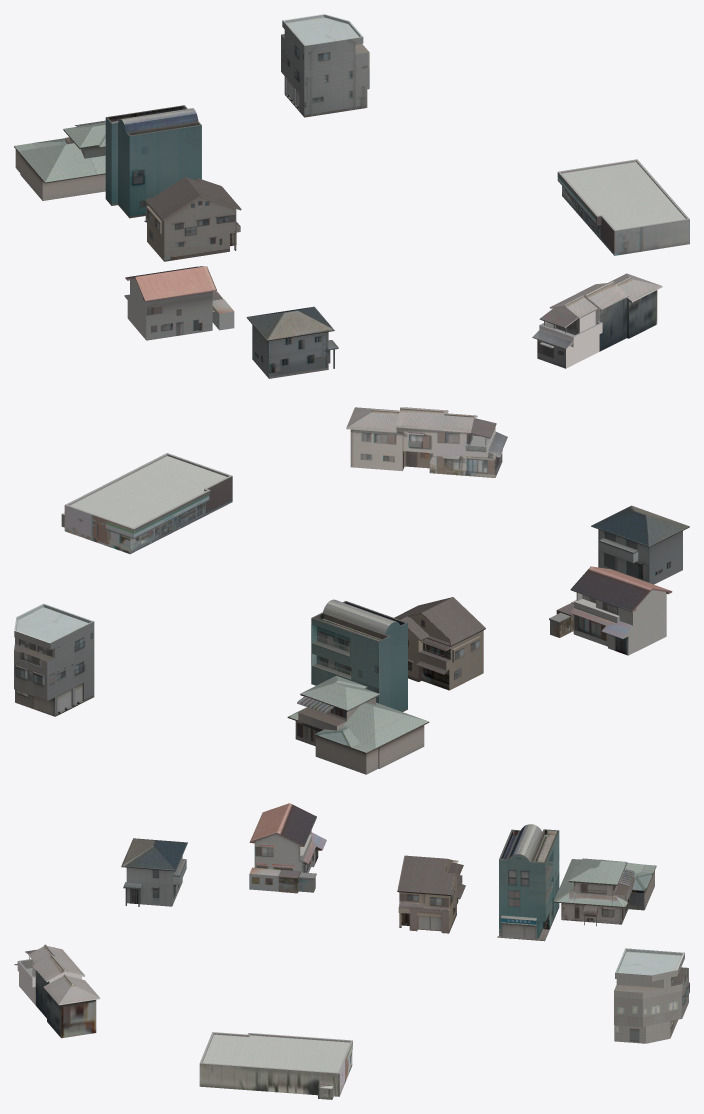
The model's file is cp09_integrated.fbx.
3 renders of one model, top to bottom at view 1: azimuth 30°, elevation 25°; view 2: azimuth 150°, elevation 25°; view 3: azimuth 270°, elevation 25°, orthographic. The views are drawn at different scales.
Parts seen in each view (by area): view 1: bldg_12703521_2aed_4491_8db0_80648b256535, bldg_5312e10e_3197_4482_a27f_df622b7fa7e4, bldg_e4d0d5f7_2f11_4ca4_a2a0_8a36977fd2f0, bldg_2cdf8ecc_8209_4efc_aa87_43be21a0a45d, bldg_cebb3781_53a5_4537_a6b1_e6cd244d24b9, bldg_b2254ac5_7152_4898_ae45_bcde549dc887, bldg_7fdc50c0_c61c_49fa_8d78_6532379b7d2e, bldg_33464077_08c3_4161_8b42_c08c609227ad, bldg_b4244c92_de8c_4e13_a4df_0033bff25806; view 2: bldg_12703521_2aed_4491_8db0_80648b256535, bldg_2cdf8ecc_8209_4efc_aa87_43be21a0a45d, bldg_7fdc50c0_c61c_49fa_8d78_6532379b7d2e, bldg_5312e10e_3197_4482_a27f_df622b7fa7e4, bldg_e4d0d5f7_2f11_4ca4_a2a0_8a36977fd2f0, bldg_b2254ac5_7152_4898_ae45_bcde549dc887, bldg_cebb3781_53a5_4537_a6b1_e6cd244d24b9, bldg_33464077_08c3_4161_8b42_c08c609227ad; view 3: bldg_12703521_2aed_4491_8db0_80648b256535, bldg_5312e10e_3197_4482_a27f_df622b7fa7e4, bldg_e4d0d5f7_2f11_4ca4_a2a0_8a36977fd2f0, bldg_7fdc50c0_c61c_49fa_8d78_6532379b7d2e, bldg_2cdf8ecc_8209_4efc_aa87_43be21a0a45d, bldg_cebb3781_53a5_4537_a6b1_e6cd244d24b9, bldg_b2254ac5_7152_4898_ae45_bcde549dc887, bldg_33464077_08c3_4161_8b42_c08c609227ad, bldg_b4244c92_de8c_4e13_a4df_0033bff25806, bldg_694b75ef_6b12_48c7_9551_dc1f6edab1bb.
Part boxes in pixels (x1,y1,x2,y2): bldg_12703521_2aed_4491_8db0_80648b256535: (557, 159, 689, 255); bldg_5312e10e_3197_4482_a27f_df622b7fa7e4: (105, 105, 201, 218); bldg_e4d0d5f7_2f11_4ca4_a2a0_8a36977fd2f0: (281, 14, 369, 117); bldg_2cdf8ecc_8209_4efc_aa87_43be21a0a45d: (532, 273, 662, 368); bldg_cebb3781_53a5_4537_a6b1_e6cd244d24b9: (144, 177, 241, 261); bldg_b2254ac5_7152_4898_ae45_bcde549dc887: (124, 266, 216, 340); bldg_7fdc50c0_c61c_49fa_8d78_6532379b7d2e: (14, 120, 105, 200); bldg_33464077_08c3_4161_8b42_c08c609227ad: (246, 306, 338, 378); bldg_b4244c92_de8c_4e13_a4df_0033bff25806: (212, 299, 234, 330); bldg_12703521_2aed_4491_8db0_80648b256535: (61, 453, 232, 554); bldg_2cdf8ecc_8209_4efc_aa87_43be21a0a45d: (346, 407, 507, 477); bldg_7fdc50c0_c61c_49fa_8d78_6532379b7d2e: (287, 675, 429, 774); bldg_5312e10e_3197_4482_a27f_df622b7fa7e4: (311, 599, 407, 711); bldg_e4d0d5f7_2f11_4ca4_a2a0_8a36977fd2f0: (14, 603, 94, 716); bldg_b2254ac5_7152_4898_ae45_bcde549dc887: (570, 566, 672, 655); bldg_cebb3781_53a5_4537_a6b1_e6cd244d24b9: (394, 597, 485, 690); bldg_33464077_08c3_4161_8b42_c08c609227ad: (591, 505, 689, 584); bldg_12703521_2aed_4491_8db0_80648b256535: (199, 1032, 352, 1099); bldg_5312e10e_3197_4482_a27f_df622b7fa7e4: (497, 824, 559, 941); bldg_e4d0d5f7_2f11_4ca4_a2a0_8a36977fd2f0: (614, 948, 689, 1043); bldg_7fdc50c0_c61c_49fa_8d78_6532379b7d2e: (553, 858, 656, 926); bldg_2cdf8ecc_8209_4efc_aa87_43be21a0a45d: (14, 944, 100, 1038); bldg_cebb3781_53a5_4537_a6b1_e6cd244d24b9: (397, 855, 465, 933); bldg_b2254ac5_7152_4898_ae45_bcde549dc887: (249, 803, 326, 872); bldg_33464077_08c3_4161_8b42_c08c609227ad: (121, 838, 187, 906); bldg_b4244c92_de8c_4e13_a4df_0033bff25806: (249, 867, 280, 891); bldg_694b75ef_6b12_48c7_9551_dc1f6edab1bb: (278, 870, 300, 893).
Bounding box in the file's own units: 8279 × 1329 × 9579.
